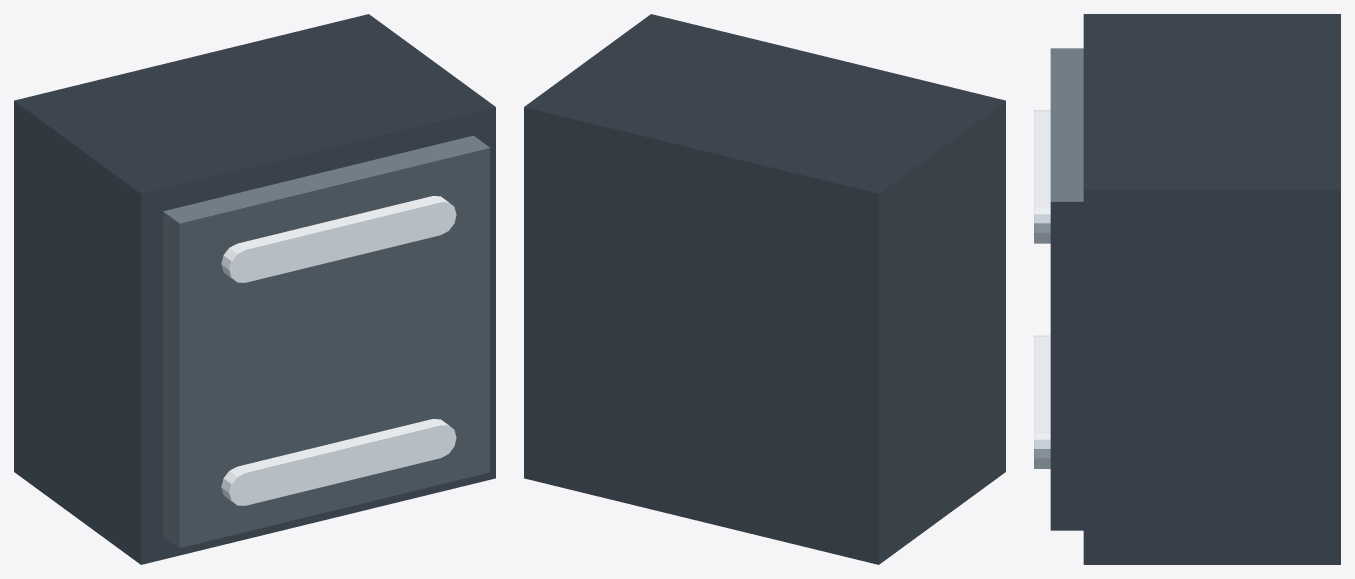
Rendered from LockWall_Tile.gltf.
3 views of the same model, side by side, from view 1: azimuth 30°, elevation 25°; view 2: azimuth 150°, elevation 25°; view 3: azimuth 270°, elevation 25° (orthographic).
Parts seen in each view (by area): view 1: LockWall_Tile_baked; view 2: LockWall_Tile_baked; view 3: LockWall_Tile_baked.
Boxes of the visible parts, box(x1,y1,x2,y2) form: LockWall_Tile_baked: box(14, 14, 495, 564); LockWall_Tile_baked: box(524, 14, 1005, 564); LockWall_Tile_baked: box(1034, 14, 1340, 564).
Bounding box in the file's own units: 1 × 1 × 0.74.
